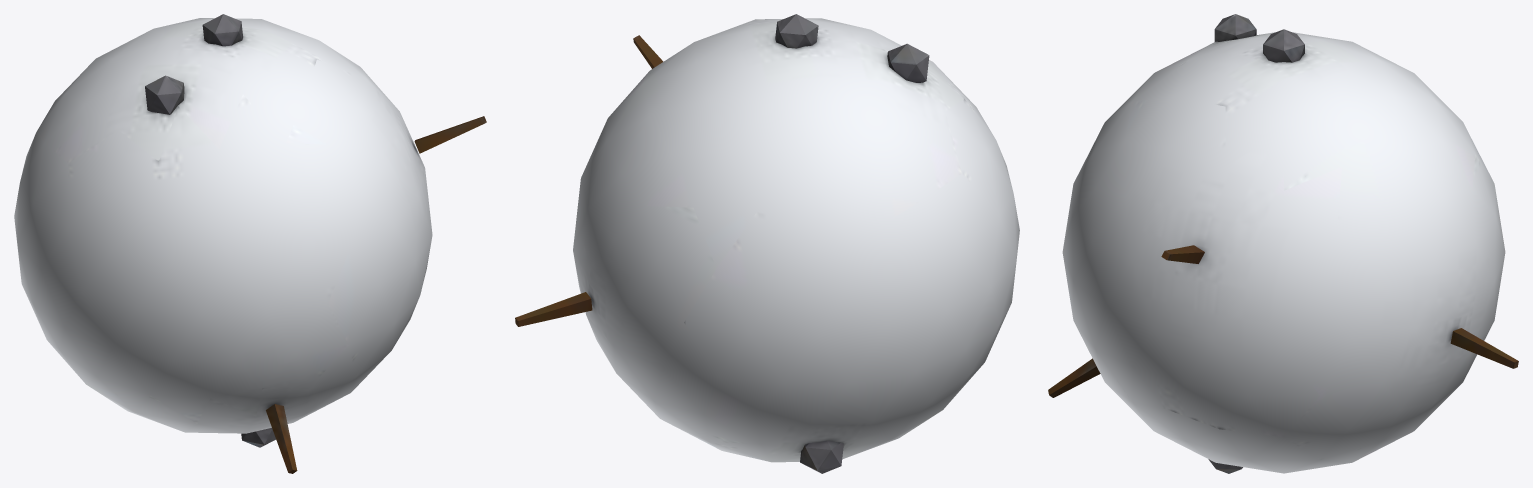
The model's file is bola_nieve.glb.
3 renders of one model, left to right at view 1: azimuth 30°, elevation 25°; view 2: azimuth 150°, elevation 25°; view 3: azimuth 270°, elevation 25°, orthographic. The views are drawn at different scales.
Parts seen in each view (by area): view 1: bola_nieve; view 2: bola_nieve; view 3: bola_nieve.
Part boxes in pixels (bbox=[...]): bola_nieve: bbox=[14, 14, 486, 473]; bola_nieve: bbox=[515, 14, 1019, 473]; bola_nieve: bbox=[1048, 14, 1518, 473].
Size of the model in its own units: 0.9634 by 0.9851 by 0.9569.
1 material, 1 textured.
